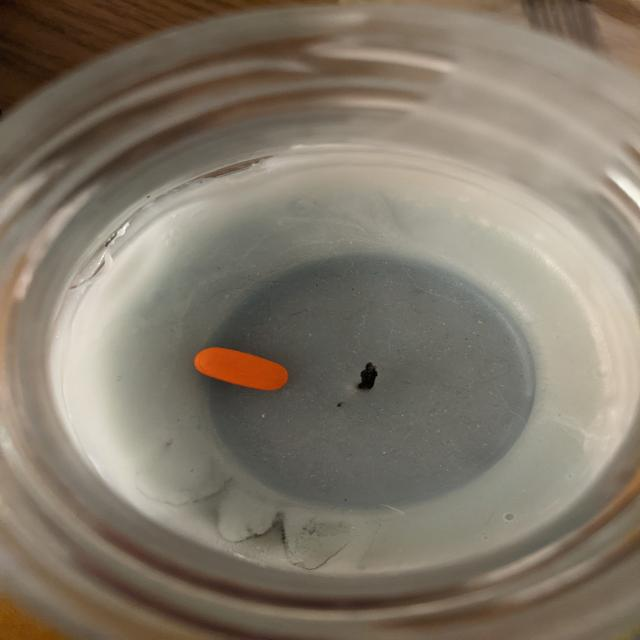non-organic waste: (192, 345, 290, 391)
